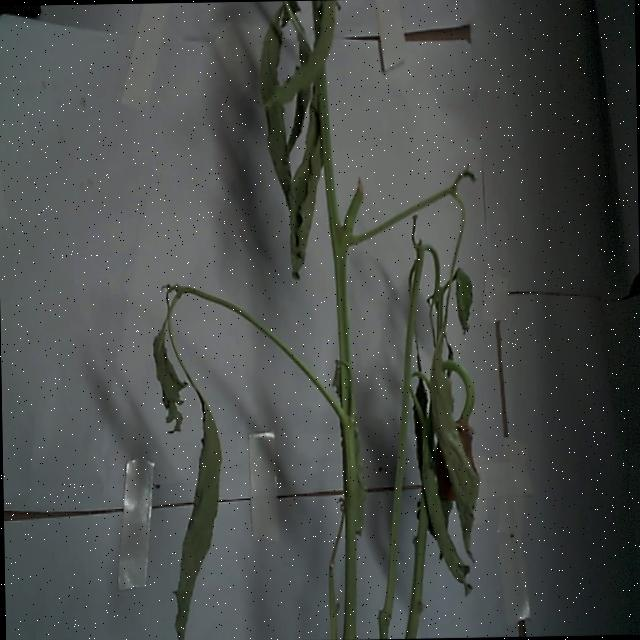Leaf: (165, 362, 222, 640), (412, 388, 472, 592), (259, 5, 299, 226), (288, 128, 326, 273), (150, 299, 188, 432)
